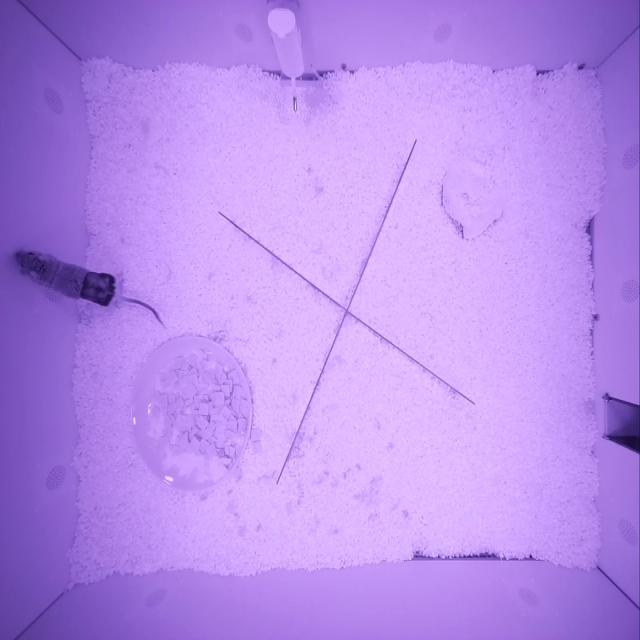adult_back: (13, 250, 124, 313)
